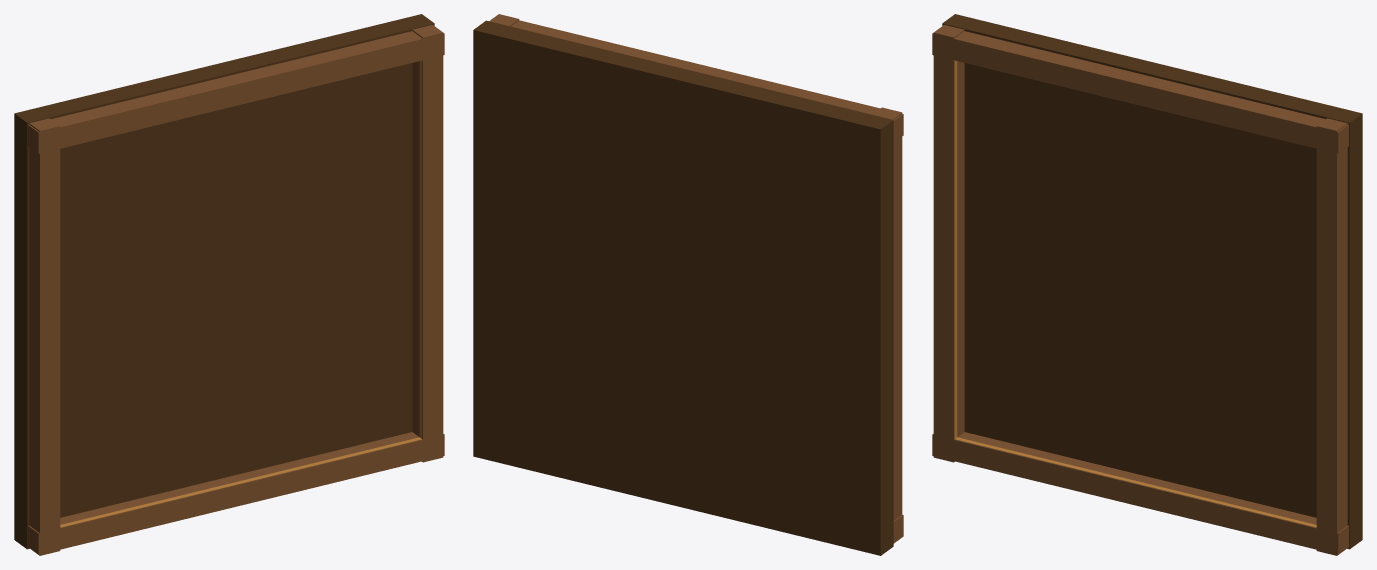
File: mia-frame.glb
3 renders of one model, left to right at view 1: azimuth 30°, elevation 25°; view 2: azimuth 150°, elevation 25°; view 3: azimuth 330°, elevation 25°, orthographic.
Parts seen in each view (by area): view 1: Body_wood, Body_oak, Body_brass; view 2: Body_wood, Body_oak; view 3: Body_wood, Body_oak, Body_brass.
Part boxes in pixels (x1=…): Body_wood: x1=14, y1=14, x2=434, y2=549; Body_oak: x1=28, y1=25, x2=444, y2=555; Body_brass: x1=60, y1=60, x2=422, y2=527; Body_wood: x1=473, y1=20, x2=893, y2=555; Body_oak: x1=489, y1=14, x2=903, y2=543; Body_wood: x1=942, y1=14, x2=1362, y2=549; Body_oak: x1=932, y1=25, x2=1348, y2=555; Body_brass: x1=954, y1=60, x2=1316, y2=527.
Bounding box in the file's own units: 0.8 × 0.8 × 0.0805.
